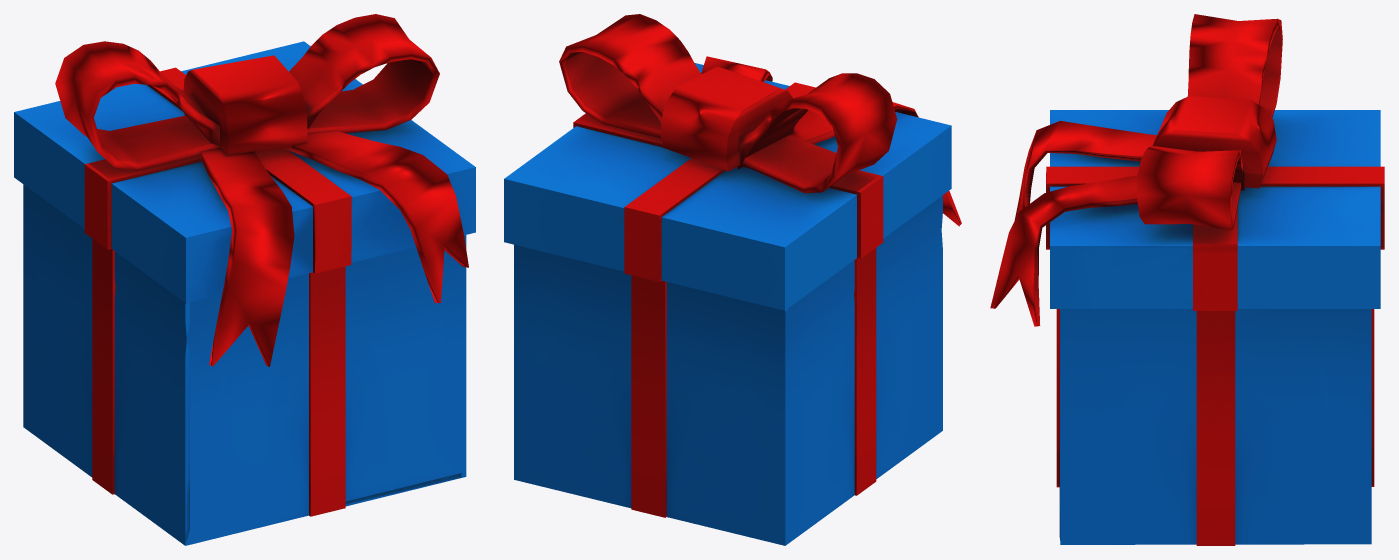
File: regalo.glb
3 renders of one model, left to right at view 1: azimuth 30°, elevation 25°; view 2: azimuth 150°, elevation 25°; view 3: azimuth 270°, elevation 25°, orthographic. The views are drawn at different scales.
Parts seen in each view (by area): view 1: Object_7; view 2: Object_7; view 3: Object_7.
Part boxes in pixels (x1,y1,x2,y2): Object_7: [14, 14, 475, 545]; Object_7: [504, 14, 961, 545]; Object_7: [990, 14, 1384, 545].
Bounding box in the file's own units: 1.17 × 1.39 × 1.24.
2 materials, 1 textured.
